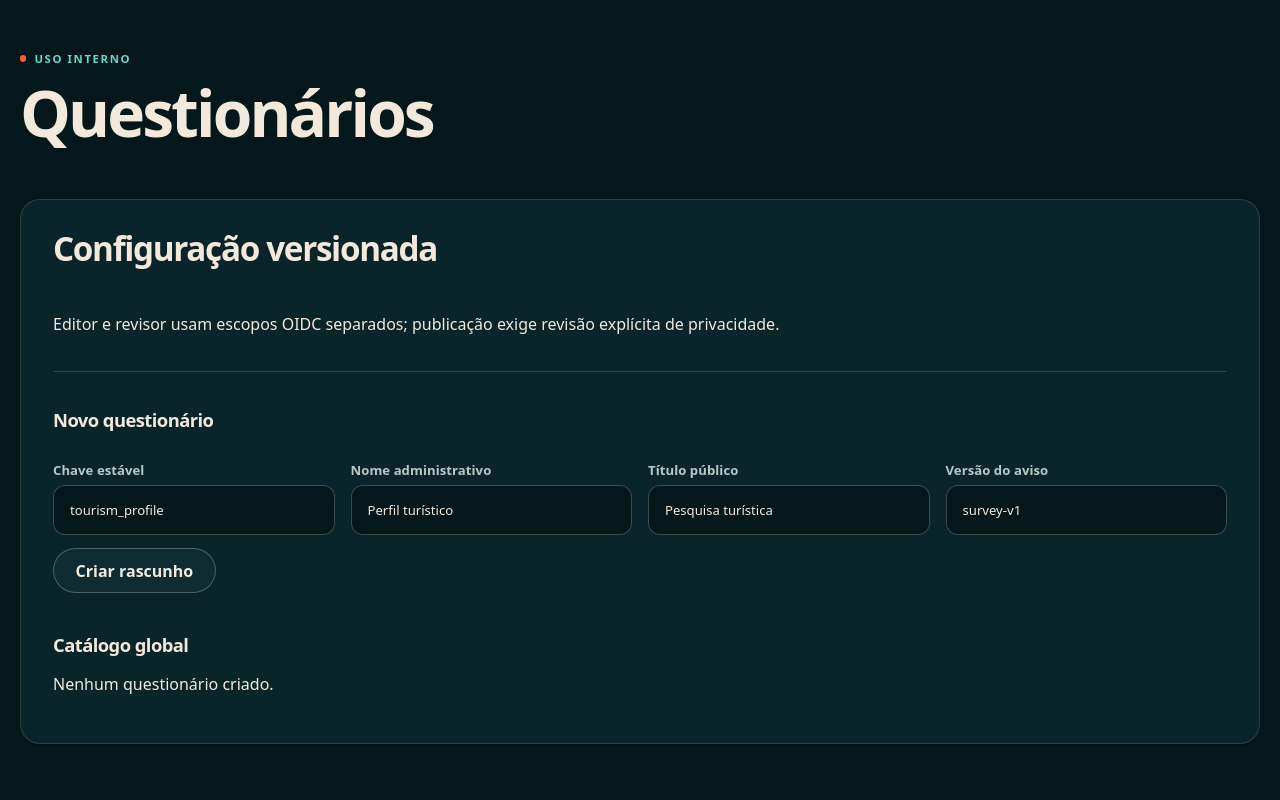
Test case: administração de questionários › cria rascunho tipado e mantém o token fora do conteúdo
Expected: the text "Nenhum questionário criado." is shown, [53, 672, 274, 694]
Click the button "Criar rascunho" at coordinates (134, 571), box [53, 548, 216, 593]
(page scrolled)
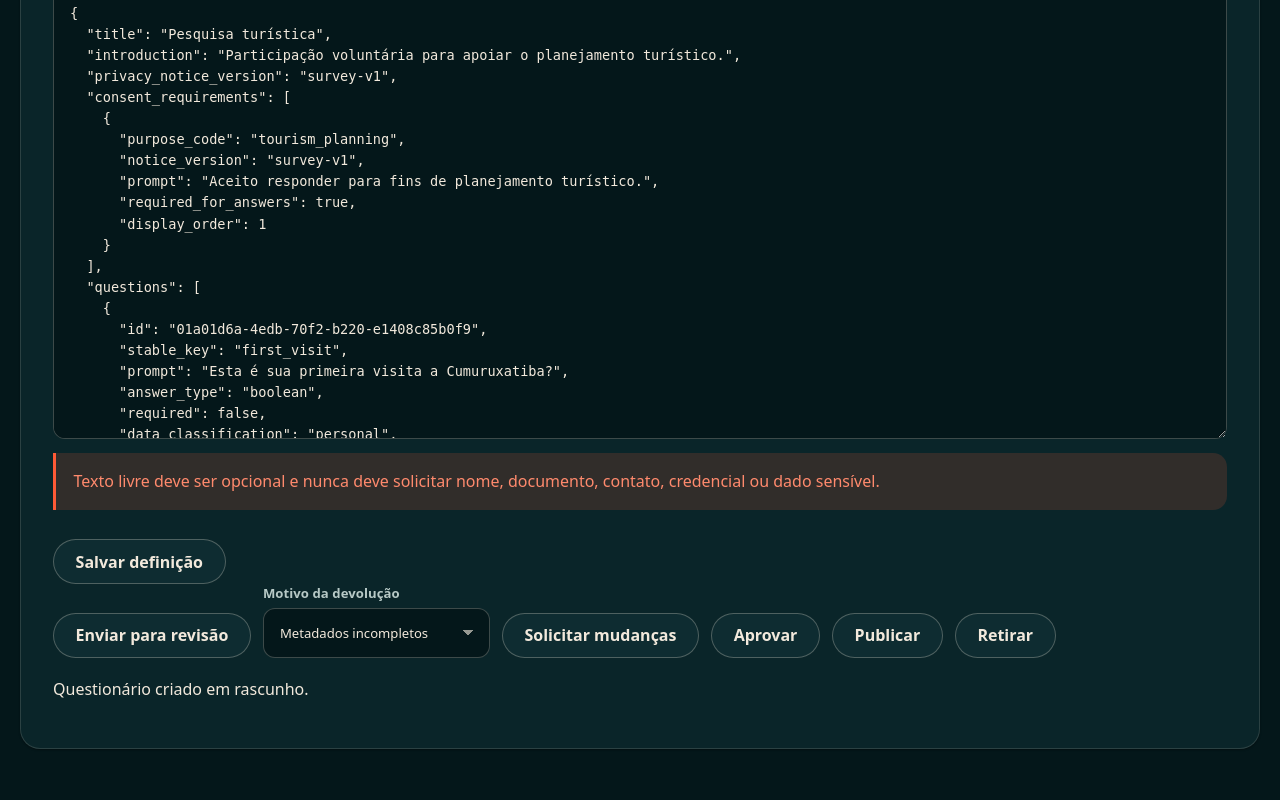
Expected: the text "Questionário criado em rascunho." is shown, [53, 678, 309, 700]
